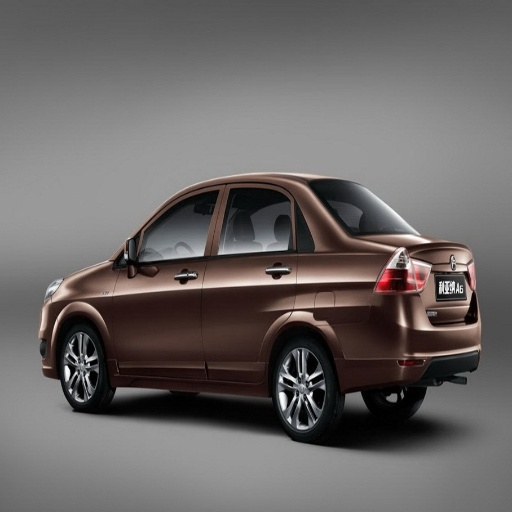back_bumper: (338, 300, 481, 387)
back_glass: (323, 181, 412, 234)
back_left_door: (202, 182, 296, 382)
front_left_door: (113, 184, 224, 373)
tailgate: (400, 236, 476, 323)
